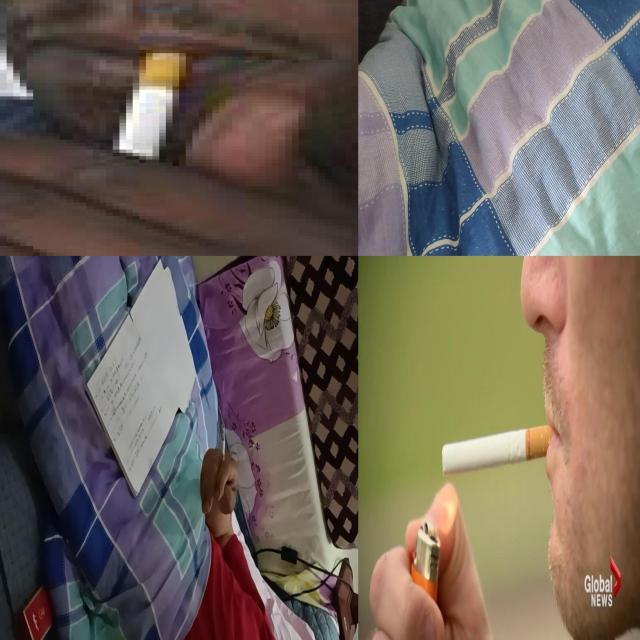smoking: (114, 36, 194, 162), (442, 423, 561, 476), (222, 422, 226, 470)
